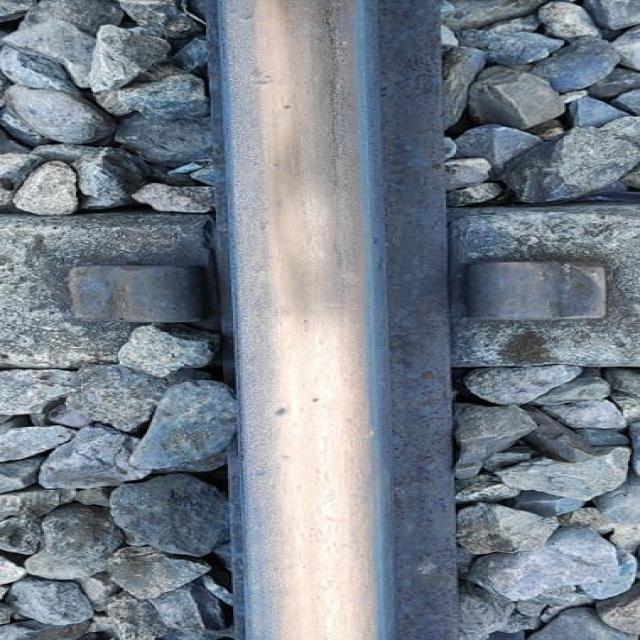Missing Fastener: (428, 237, 638, 347), (21, 233, 208, 345)
